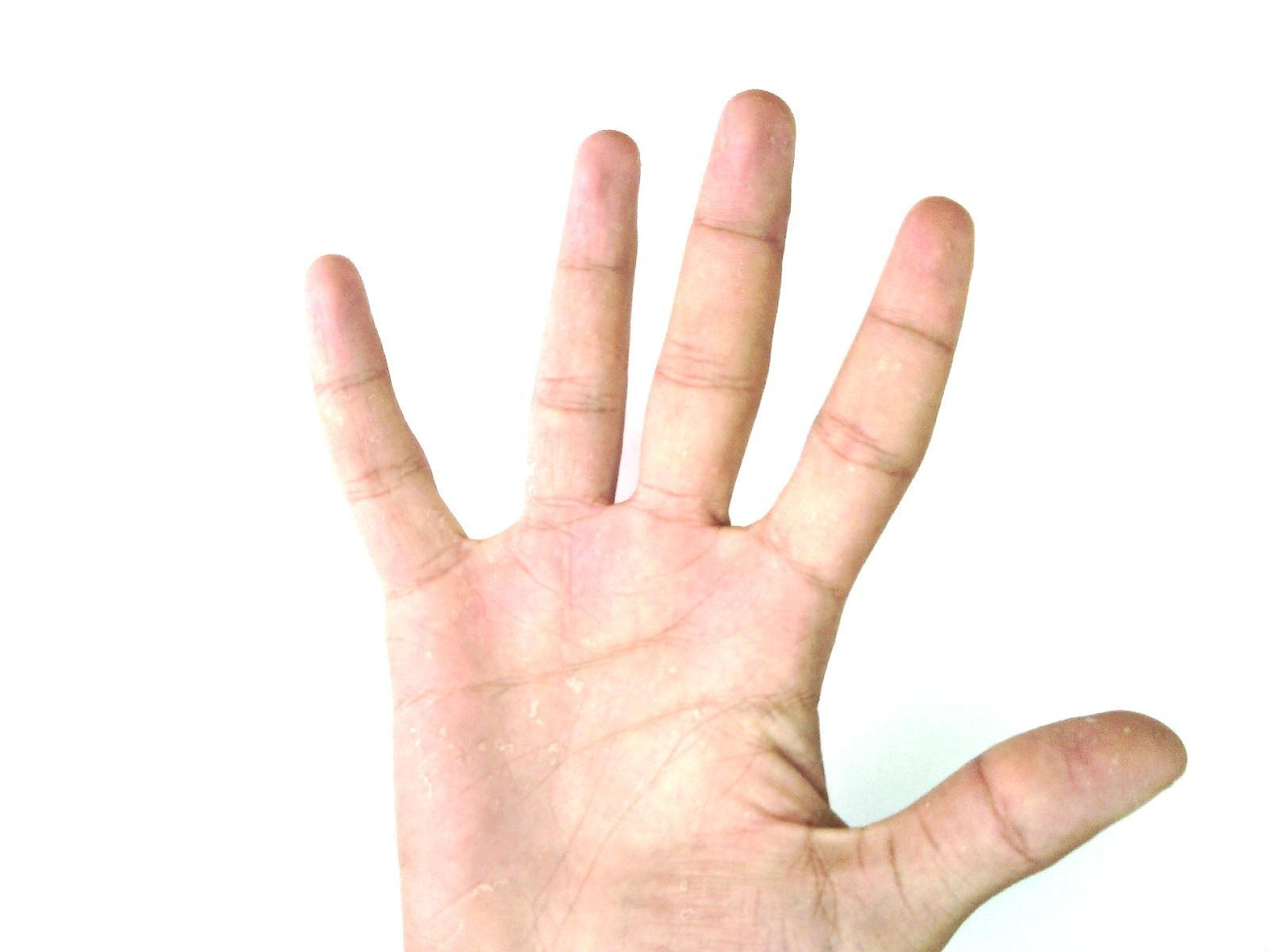open_palm: (300, 88, 1190, 952)
